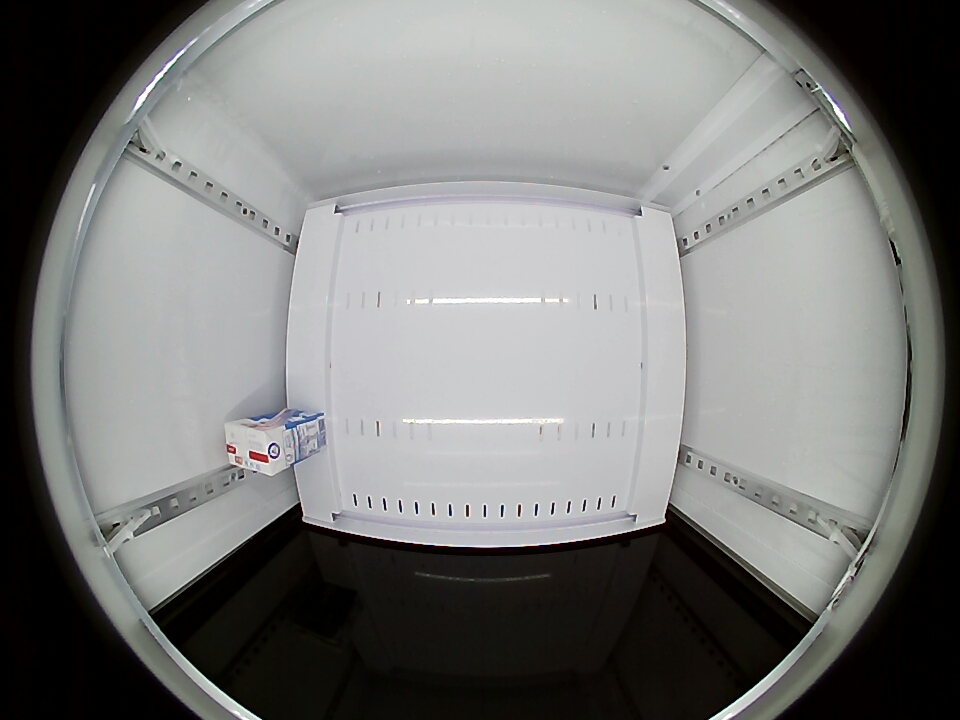niunai: (224, 417, 289, 477)
